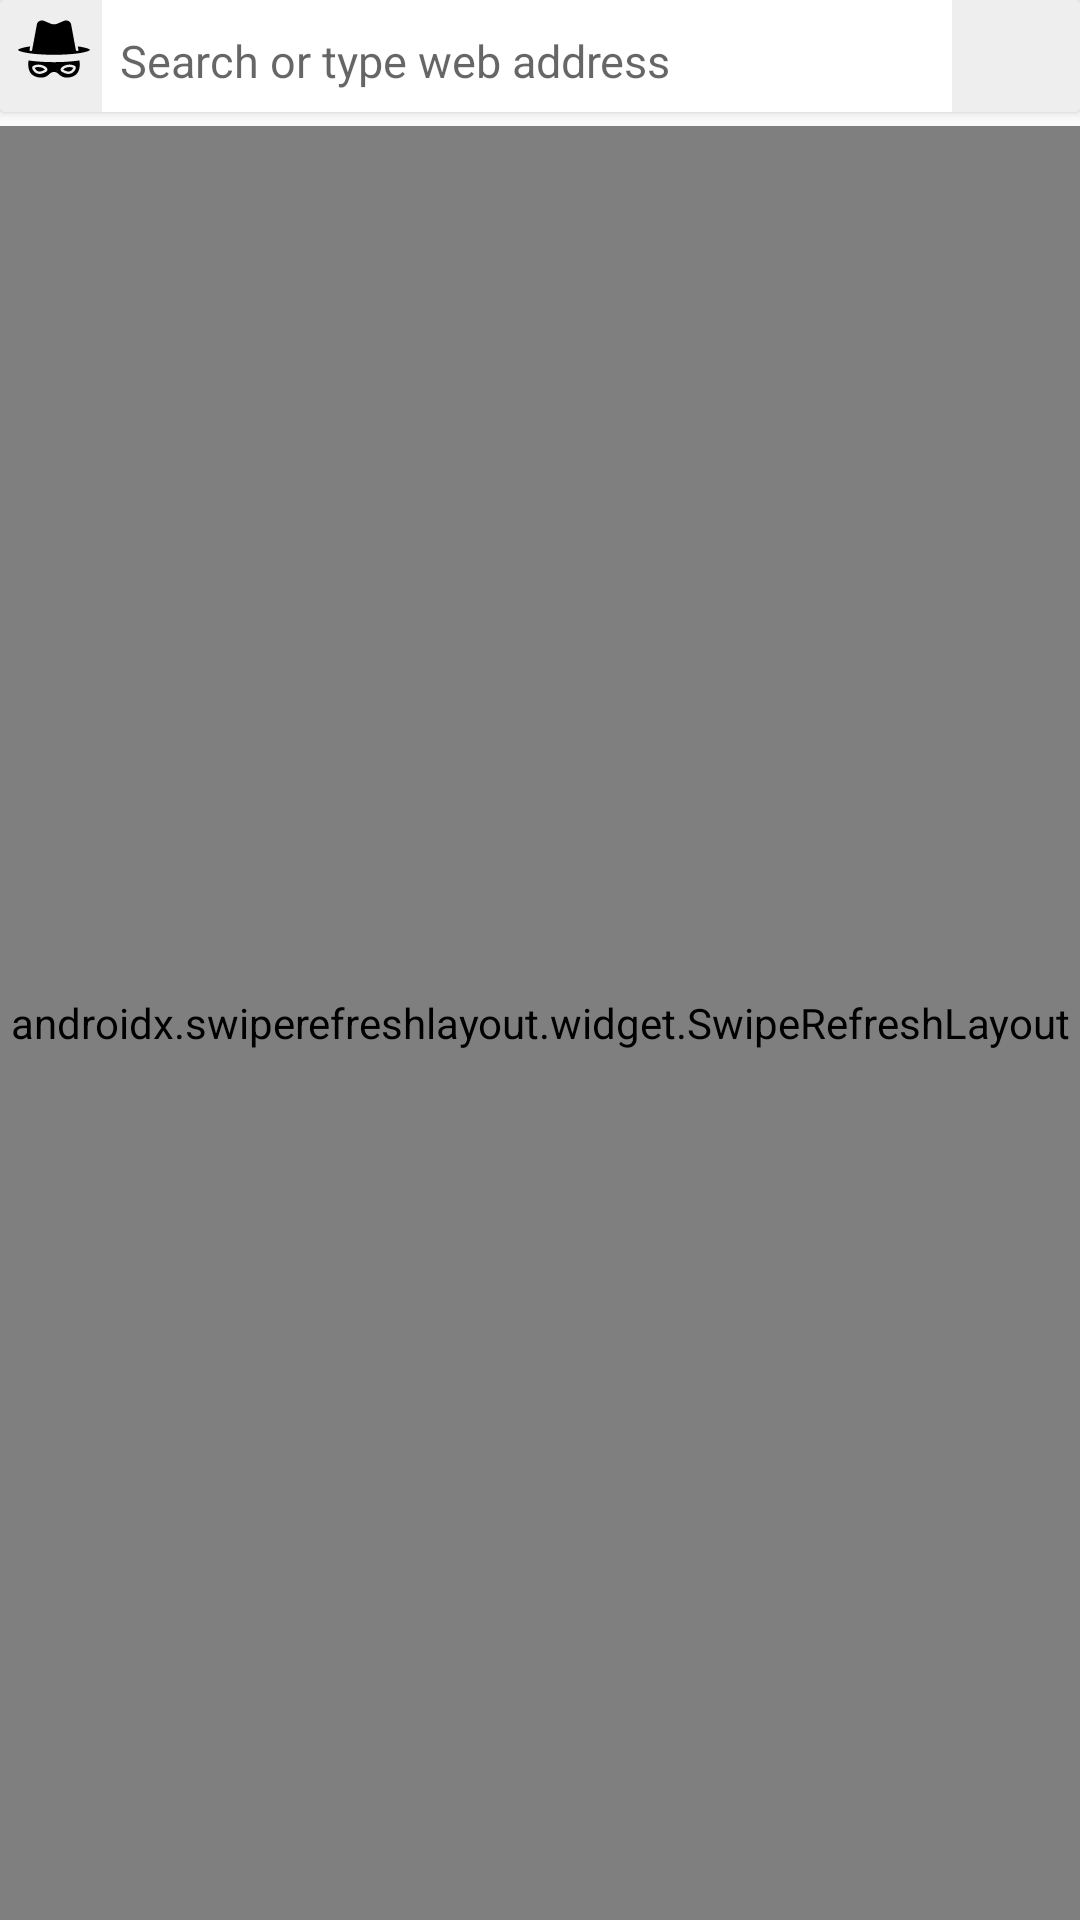

Point at icon controls on the screen. Image size 1080px×1920px, points as (x,y).
incognito: (54,49)
